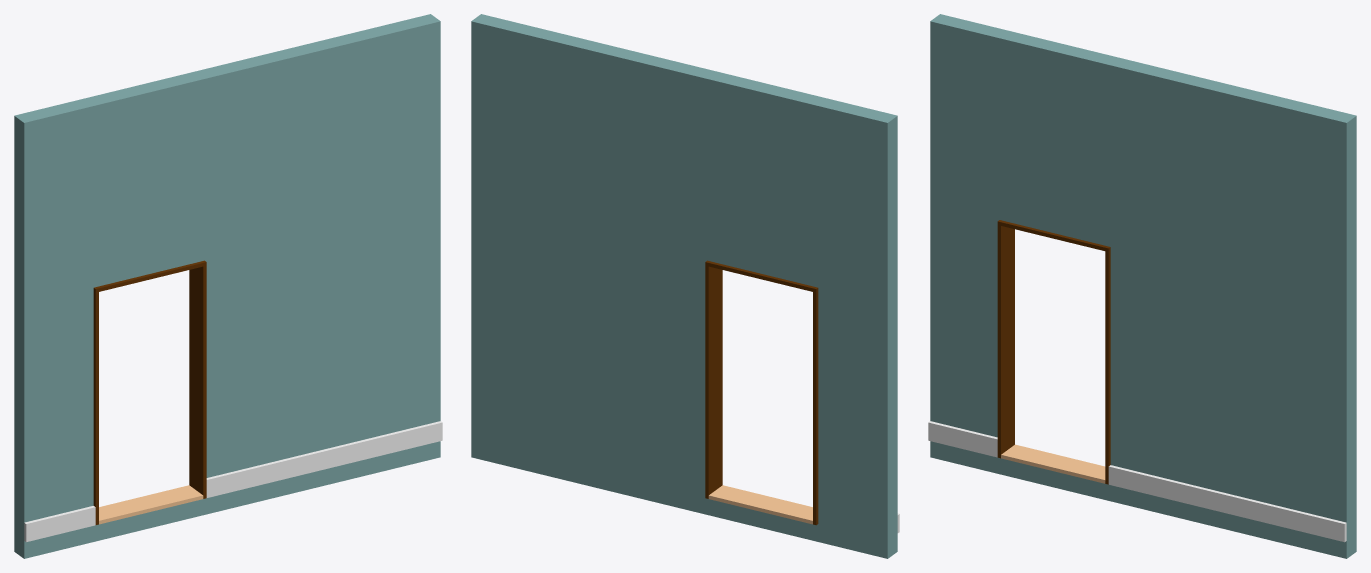
The model's file is wall02_test.obj.
The picture shows the model from 3 angles, left to right: view 1: azimuth 30°, elevation 25°; view 2: azimuth 150°, elevation 25°; view 3: azimuth 330°, elevation 25°; orthographic projection.
Bounding box in the file's own units: 12 × 12 × 0.7.
Materials: 1 (1 with a texture image).
